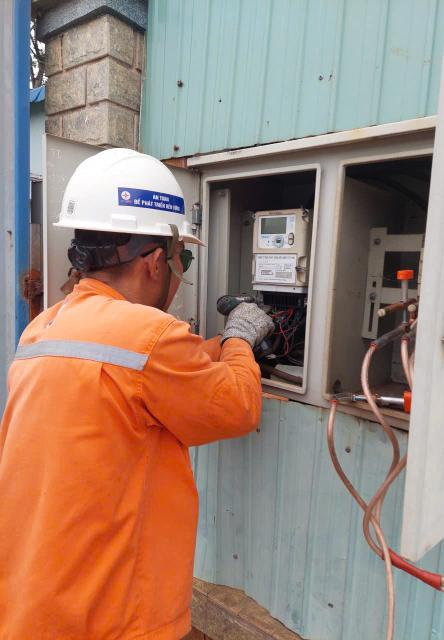gloves: (205, 284, 294, 367)
helmet: (48, 146, 214, 268)
